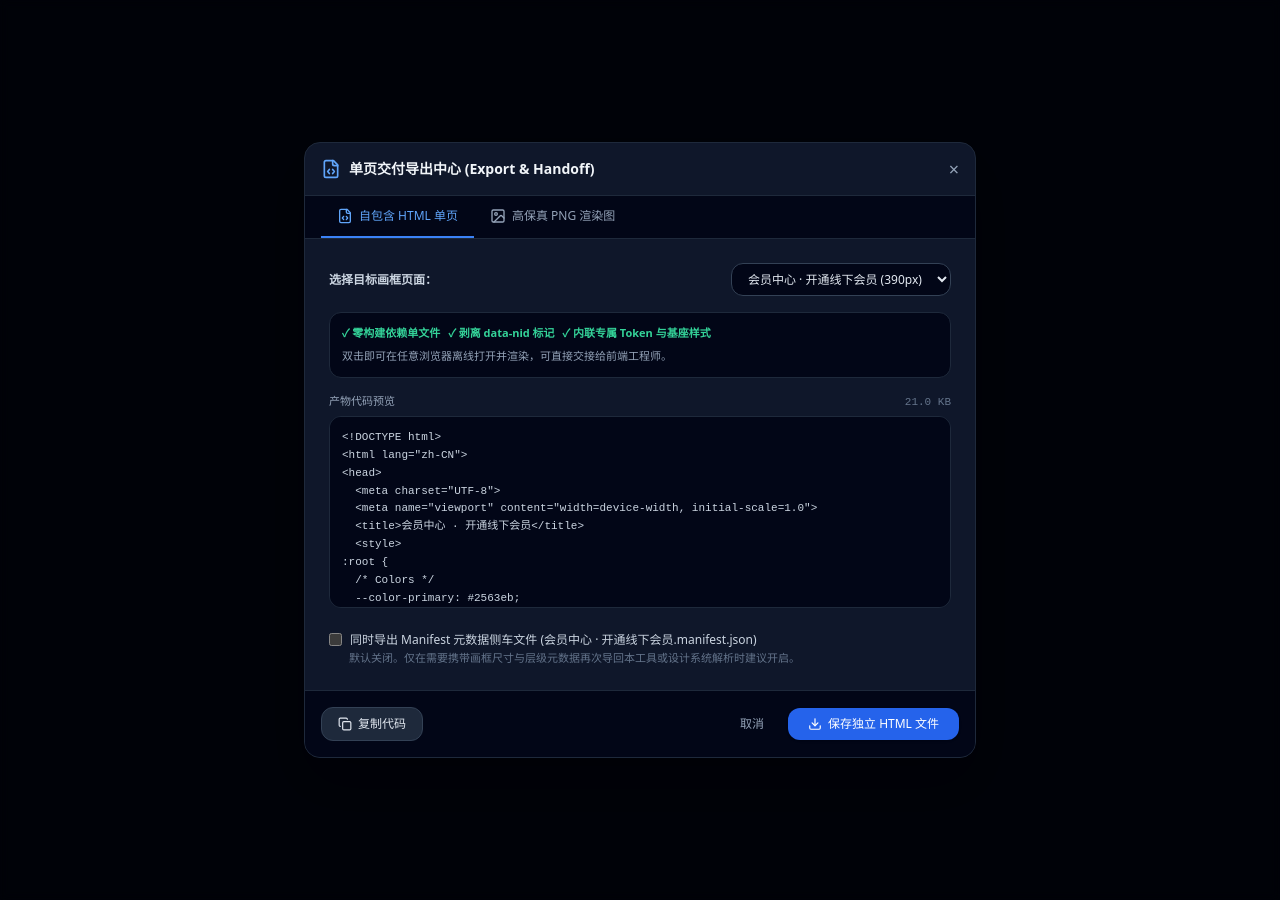
Scenario: ExportModal UI Specification (ISSUE-024 / CHK-EXP-01 ~ CHK-EXP-05) › CHK-EXP-05: displays friendly error banner when PNG export fails, without saving fake blank image
What coordinates should you click on to do the following:
click the button "高保真 PNG 渲染图"
I would click on:
 (553, 217)
Its box is [474,196,631,238].
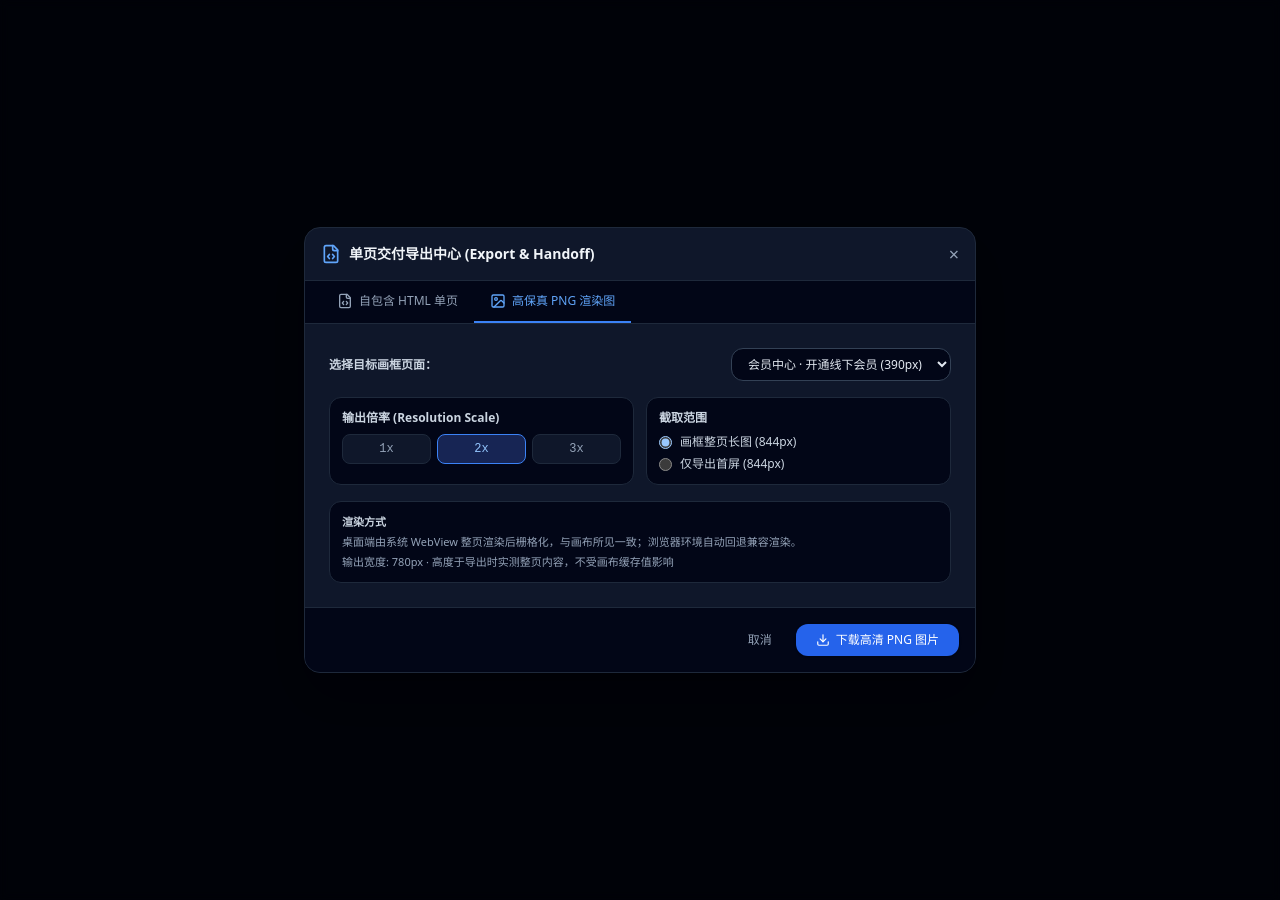
What coordinates should you click on to do the following:
click the button "下载高清 PNG 图片"
I would click on:
 (877, 640)
Its box is [796,624,959,656].
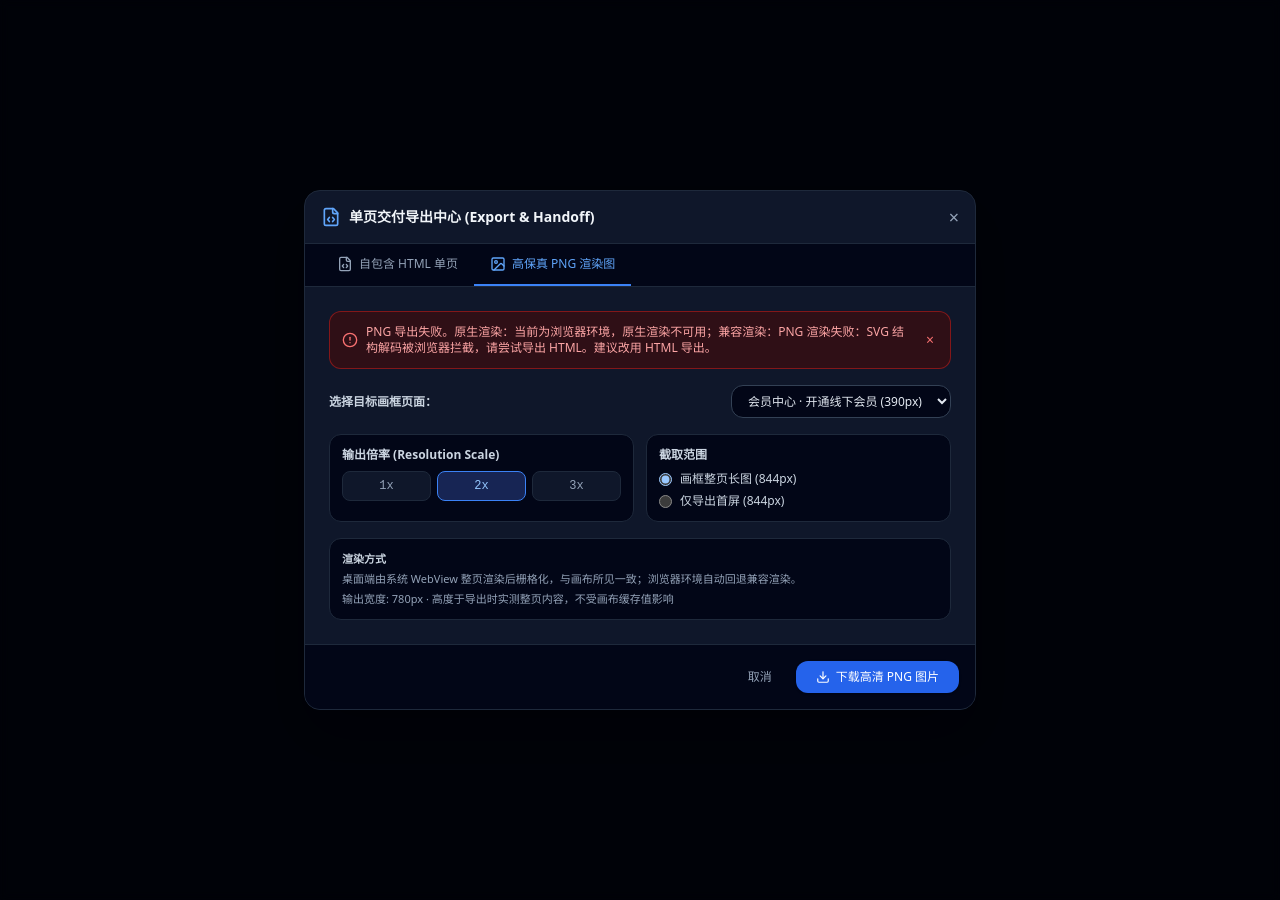
Result: the text "PNG 渲染失败" is shown at [366,323,904,356]
